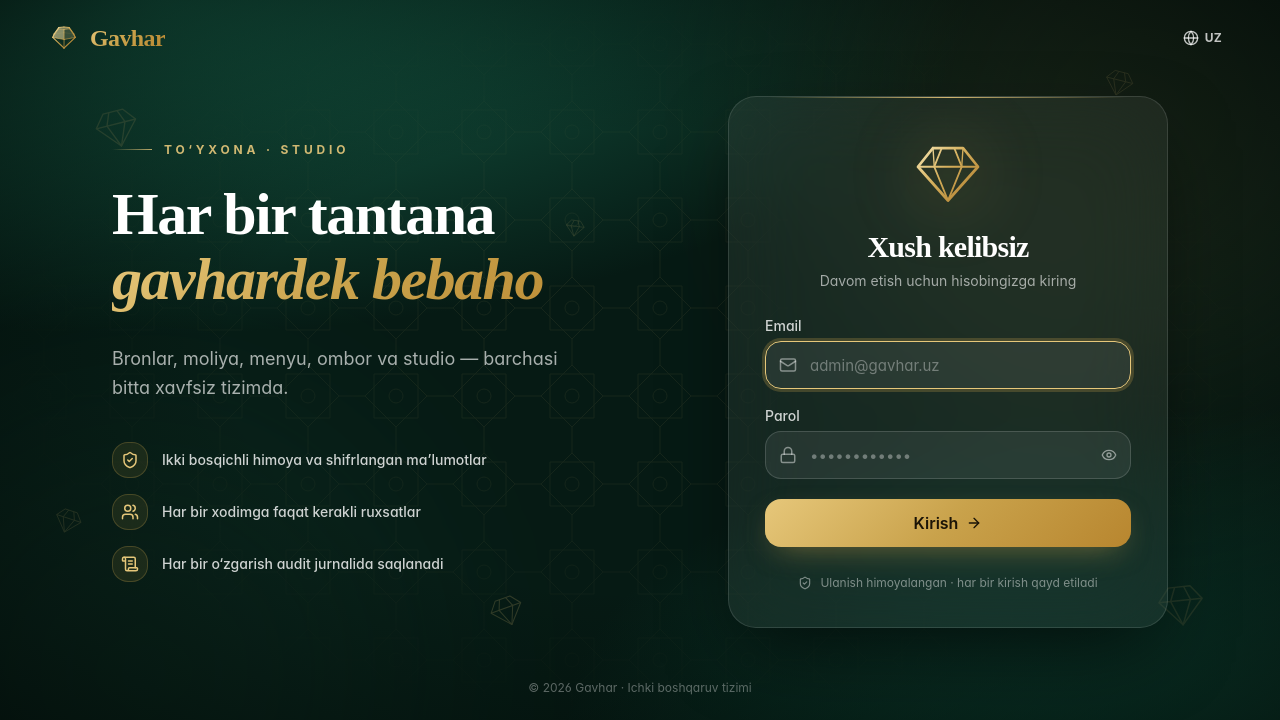
it: LoginPage › bo'sh forma yuborilmaydi va maydon xatolari ko'rsatiladi
This screenshot has width=1280, height=720.
Click the button "Kirish" at (948, 523), box [765,499,1131,547]
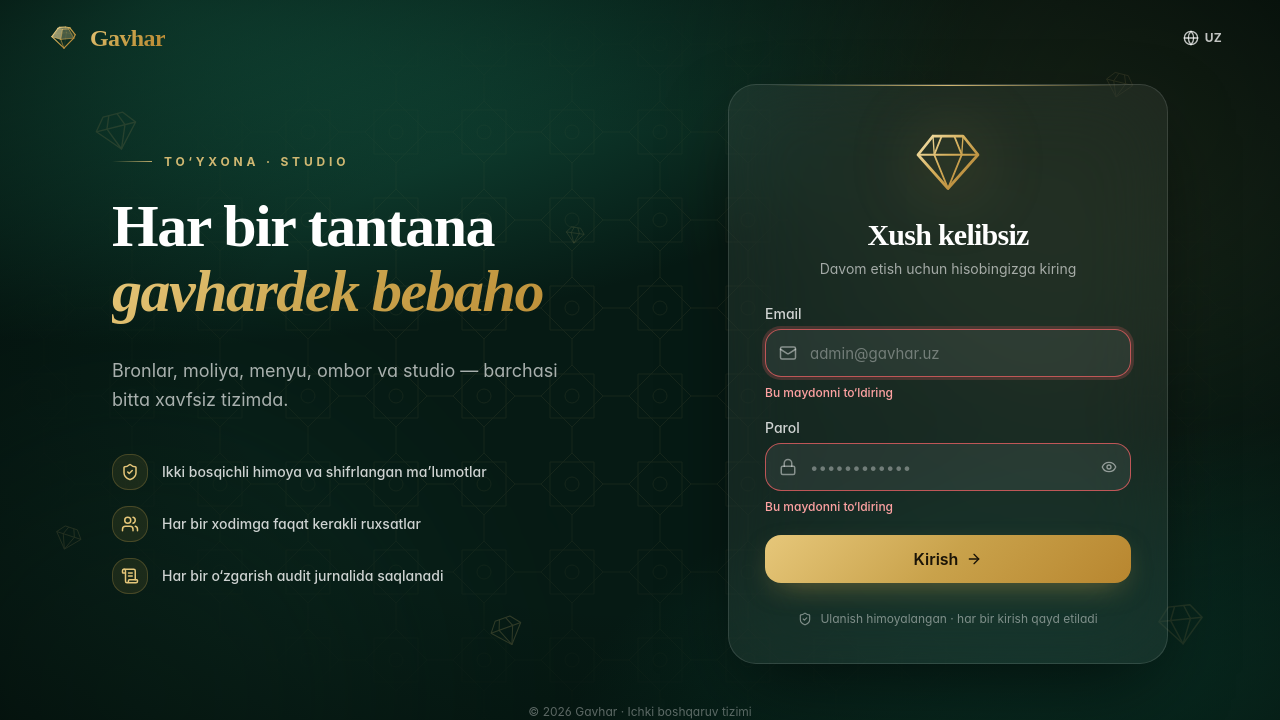
Expected: the text "Bu maydonni to‘ldiring" is shown 2 times, [765,385,893,400]; [765,499,893,514]
